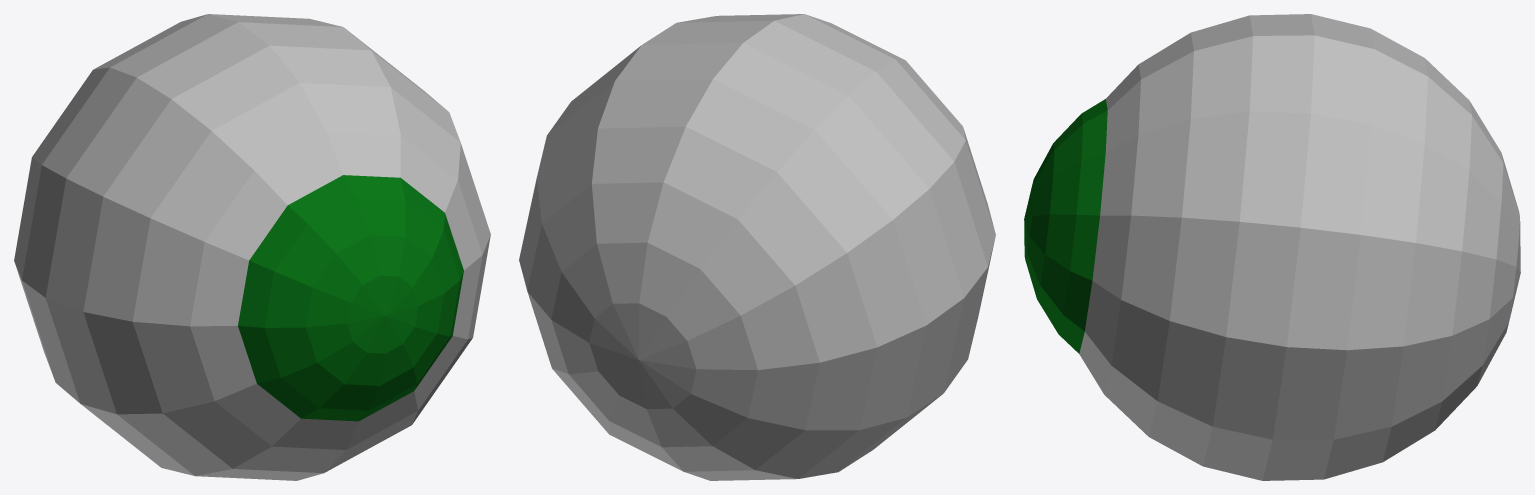
The model's file is lefteye.dae.
3 views of the same model, side by side, from view 1: azimuth 30°, elevation 25°; view 2: azimuth 150°, elevation 25°; view 3: azimuth 270°, elevation 25° (orthographic).
Parts seen in each view (by area): view 1: Sphere_001, Sphere_002; view 2: Sphere_001; view 3: Sphere_001, Sphere_002.
Boxes of the visible parts, x1,y1,x2,y2 form: Sphere_001: (14,14,490,480); Sphere_002: (238,175,463,421); Sphere_001: (519,14,995,480); Sphere_001: (1079,14,1520,480); Sphere_002: (1024,99,1107,353).
Bounding box in the file's own units: 0.4962 × 0.5229 × 0.4928.
